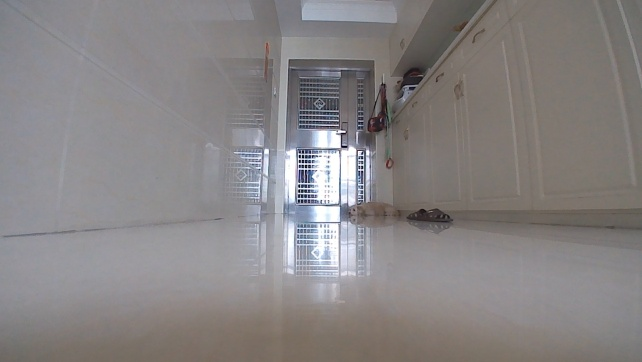dog: (345, 200, 399, 217)
door_anno: (282, 64, 375, 222)
slipper: (404, 206, 455, 223)
